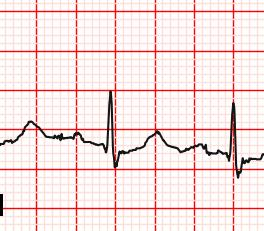ST Depression: (102, 142, 125, 169), (226, 151, 246, 180)
